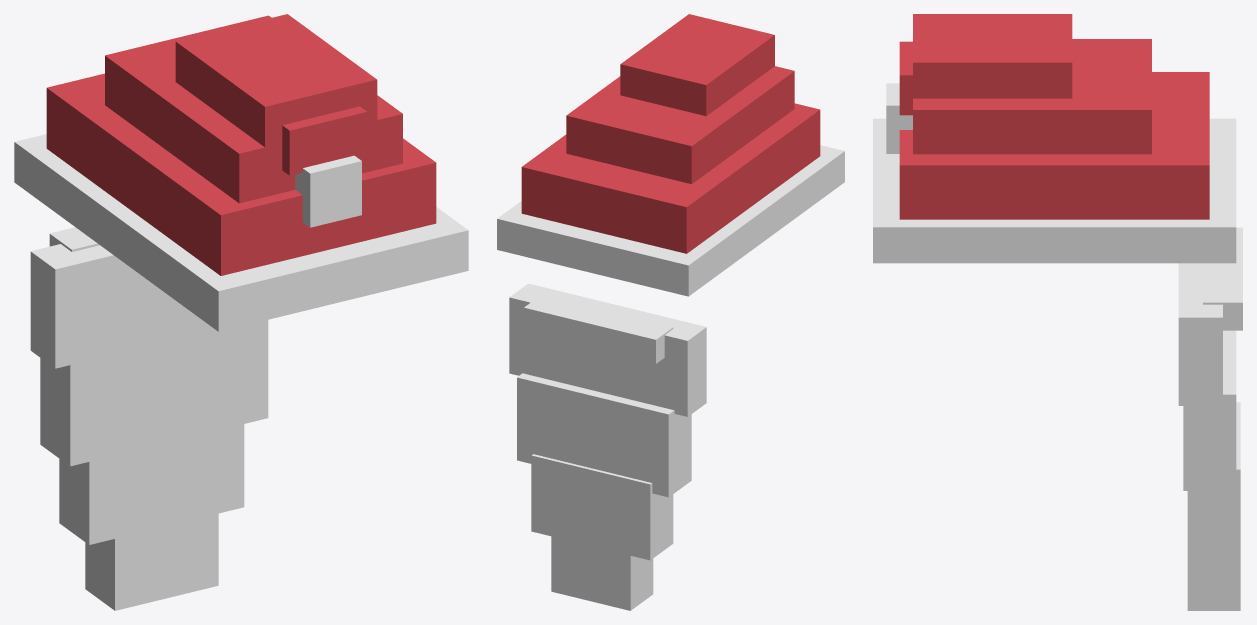
File: gorro_barba_noel.glb
3 views of the same model, side by side, from view 1: azimuth 30°, elevation 25°; view 2: azimuth 150°, elevation 25°; view 3: azimuth 270°, elevation 25° (orthographic). The views are drawn at different scales.
Visible parts, largest first — view 1: gorro_barba_noel; view 2: gorro_barba_noel; view 3: gorro_barba_noel.
Boxes of the visible parts, x1,y1,x2,y2 form: gorro_barba_noel: [14, 14, 468, 610]; gorro_barba_noel: [497, 14, 844, 610]; gorro_barba_noel: [873, 14, 1242, 610].
Size of the model in its own units: 0.58 by 1.37 by 0.835.
